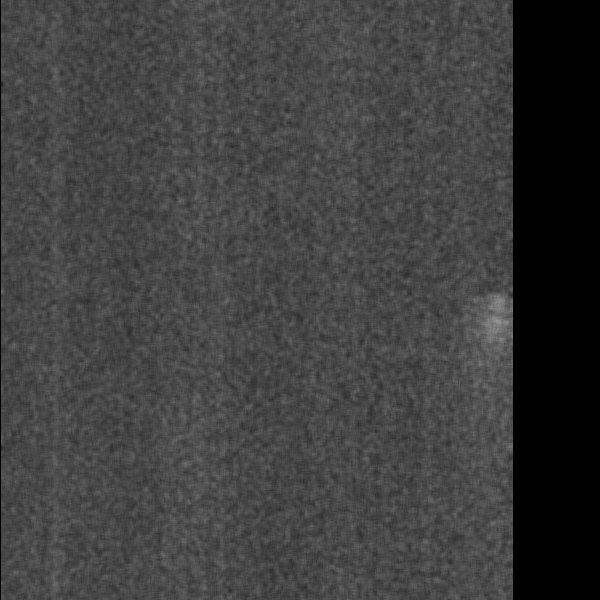spark: (8, 180, 75, 366), (162, 365, 228, 432), (119, 198, 156, 246), (147, 80, 170, 106)
